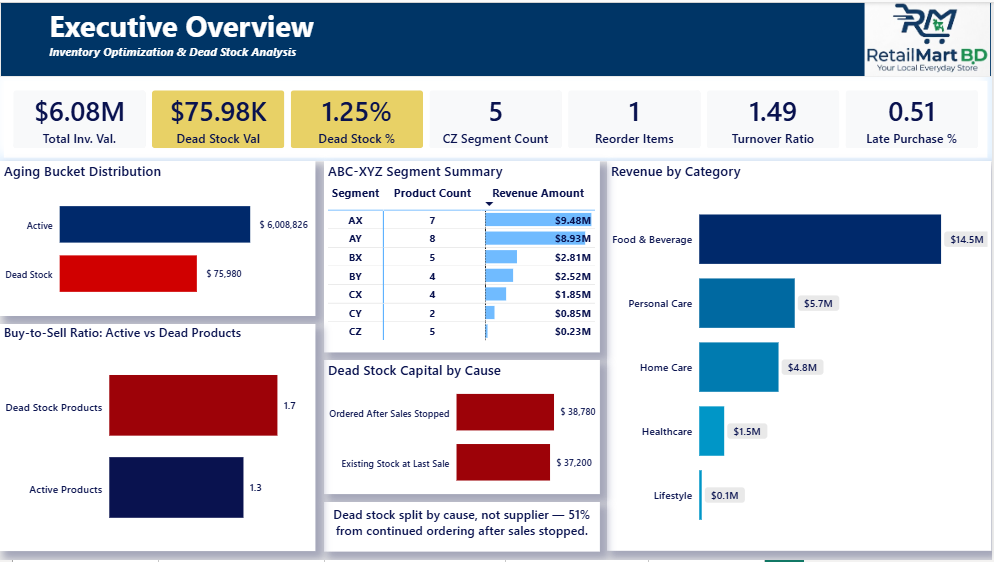

The page's visual inventory and layout, read from the dashboard file:
{"tool":"powerbi","page":{"name":"Executive Overview","canvas":[1280,720],"ordinal":0},"visuals":[{"type":"cardVisual","fields":{"Data":["_Measures.Total Inventory Value","_Measures.Dead Stock Value","_Measures.Dead Stock %","_Measures.CZ Segment Count","_Measures.Reorder Alert Count","_Measures.Avg Turnover Ratio","_Measures.Late Purchases % of Dead Stock"]},"box":[0,96.4,1279.8,109.1],"z":0},{"type":"textbox","box":[0,0,1279.8,96.4],"z":1000},{"type":"clusteredBarChart","title":"Aging Bucket Distribution","fields":{"Category":["vw_stock_aging.aging_bucket"],"Y":["Sum(vw_stock_aging.tied_up_capital)"]},"box":[0,205.5,406.8,199.8],"z":2000},{"type":"clusteredBarChart","title":"Revenue by Category","fields":{"Category":["dim_product.category"],"Y":["Sum(vw_abc_analysis.total_revenue)"]},"box":[783.8,205.5,496.1,503.1],"z":3000},{"type":"pivotTable","title":"ABC-XYZ Segment Summary","fields":{"Rows":["vw_abc_xyz_matrix.combined_segment"],"Values":["Count(vw_abc_xyz_matrix.product_id)","Sum(vw_abc_xyz_matrix.total_revenue)"]},"box":[418.1,205.5,355.7,246.6],"z":4000},{"type":"barChart","title":"Dead Stock Capital by Cause","fields":{"Category":["DeadStockBreakdown.Bucket"],"Y":["_Measures.Dead Stock Capital by Bucket"]},"box":[418.1,462,355.7,172.9],"z":5000},{"type":"image","box":[1114,0,165.8,96.4],"z":6000},{"type":"textbox","box":[418.1,644.9,355.7,63.8],"z":6001},{"type":"clusteredBarChart","title":"Buy-to-Sell Ratio: Active vs Dead Products","fields":{"Category":["vw_buy_to_sell.Stock Group"],"Y":["Avg(vw_buy_to_sell.buy_to_sell_ratio)"]},"box":[0,415.3,406.8,293.4],"z":6002}]}

Visuals, with their boxes in screenshot pixels (x1, y1, x2, y2), scaled from the page's 1280x720 canvas onto the 994x562 screenshot:
cardVisual - _Measures.Total Inventory Value x _Measures.Dead Stock Value: detection(0, 75, 993, 160)
textbox: detection(0, 0, 993, 75)
"Aging Bucket Distribution" clusteredBarChart: detection(0, 160, 316, 316)
"Revenue by Category" clusteredBarChart: detection(609, 160, 993, 553)
"ABC-XYZ Segment Summary" pivotTable: detection(325, 160, 601, 353)
"Dead Stock Capital by Cause" barChart: detection(325, 361, 601, 496)
image: detection(865, 0, 993, 75)
textbox: detection(325, 503, 601, 553)
"Buy-to-Sell Ratio: Active vs Dead Products" clusteredBarChart: detection(0, 324, 316, 553)
